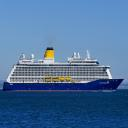cruises: (4, 46, 126, 94)
